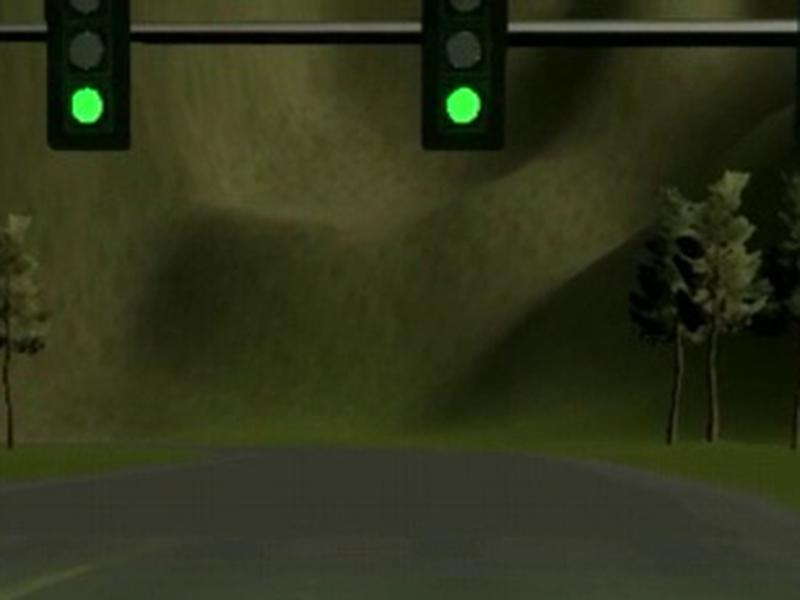Green: (423, 1, 509, 150), (45, 1, 130, 151)
